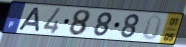0: (142, 14, 163, 42)
4: (42, 6, 63, 35)
8: (68, 8, 93, 37), (120, 13, 140, 40), (93, 11, 113, 37)
A: (16, 6, 41, 33)
